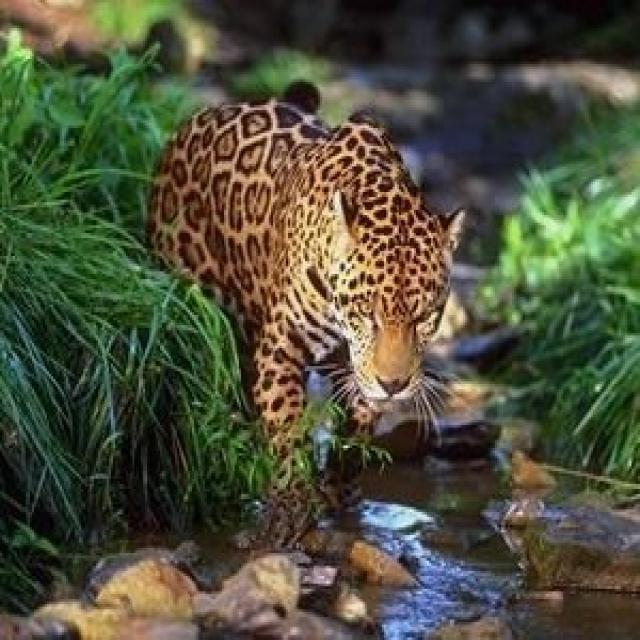Leopard: (147, 90, 467, 540)
